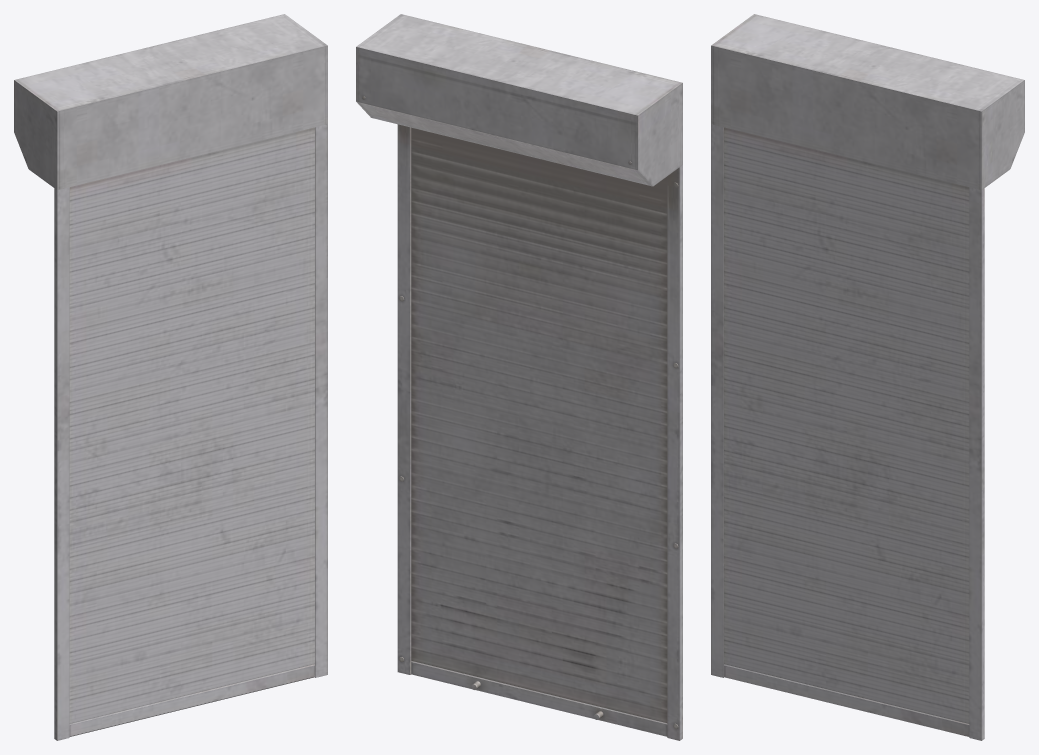
File: rollershutter.glb
3 renders of one model, left to right at view 1: azimuth 30°, elevation 25°; view 2: azimuth 150°, elevation 25°; view 3: azimuth 330°, elevation 25°, orthographic. The views are drawn at different scales.
Visible parts, largest first — view 1: rollershutter_door; view 2: rollershutter_door; view 3: rollershutter_door.
Boxes of the visible parts, x1,y1,x2,y2 form: rollershutter_door: (14,14,327,740); rollershutter_door: (356,14,682,740); rollershutter_door: (711,14,1024,740).
Size of the model in its own units: 1.08 by 2.4 by 0.3001.
1 material, 1 textured.
